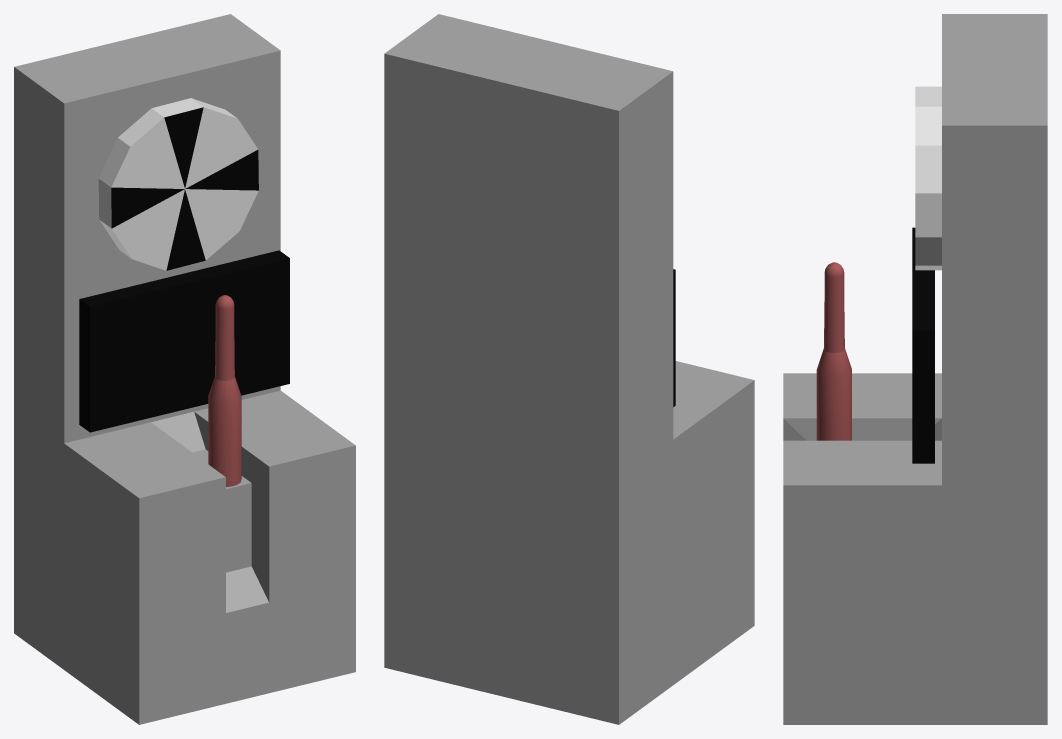
Rendered from Timeclock.fbx.
The picture shows the model from 3 angles, left to right: view 1: azimuth 30°, elevation 25°; view 2: azimuth 150°, elevation 25°; view 3: azimuth 270°, elevation 25°; orthographic projection. The views are drawn at different scales.
Parts seen in each view (by area): view 1: TimeClock, Lever; view 2: TimeClock; view 3: TimeClock, Lever.
Boxes of the visible parts, x1,y1,x2,y2 form: TimeClock: (14, 14, 355, 724); Lever: (208, 295, 241, 486); TimeClock: (384, 14, 754, 724); TimeClock: (783, 14, 1047, 724); Lever: (816, 262, 851, 440).
Size of the model in its own units: 2.84 by 7.11 by 2.84.
